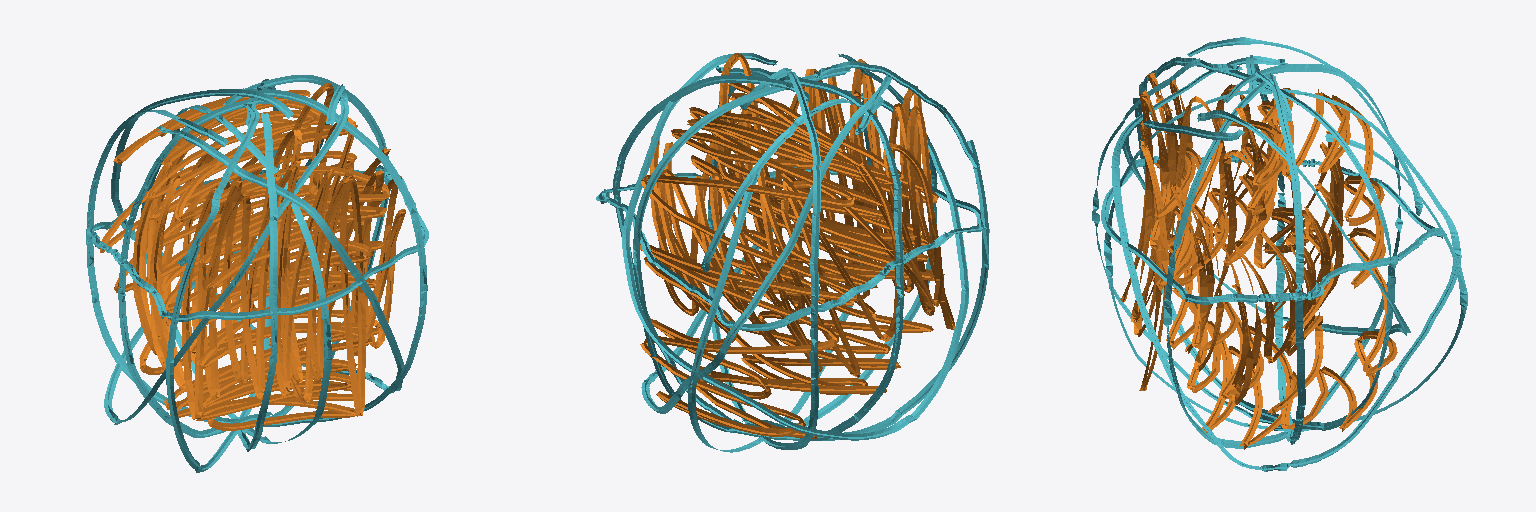
3 views of the same model, side by side, from view 1: azimuth 30°, elevation 25°; view 2: azimuth 150°, elevation 25°; view 3: azimuth 270°, elevation 25° (orthographic).
Size of the model in its own units: 0.8971 by 1 by 0.9385.
Materials: 1 (1 with a texture image).